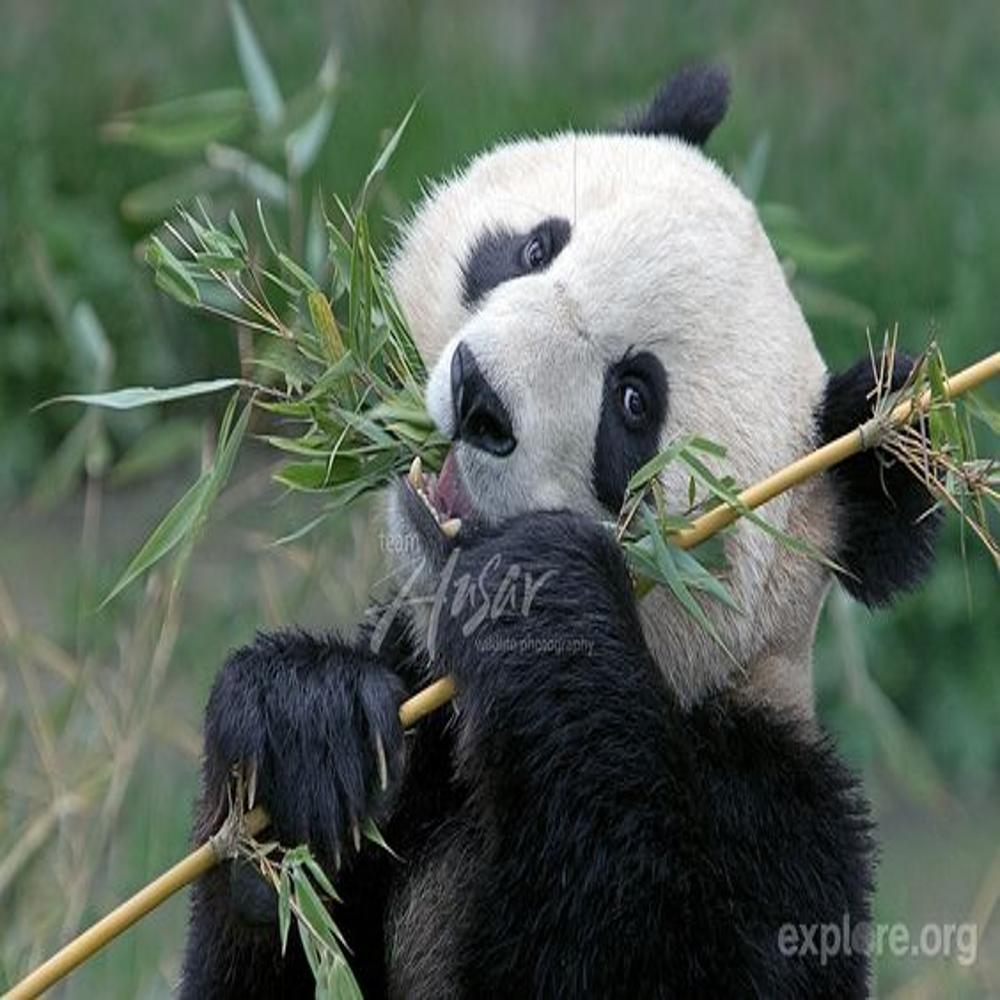panda: (179, 66, 948, 1000)
